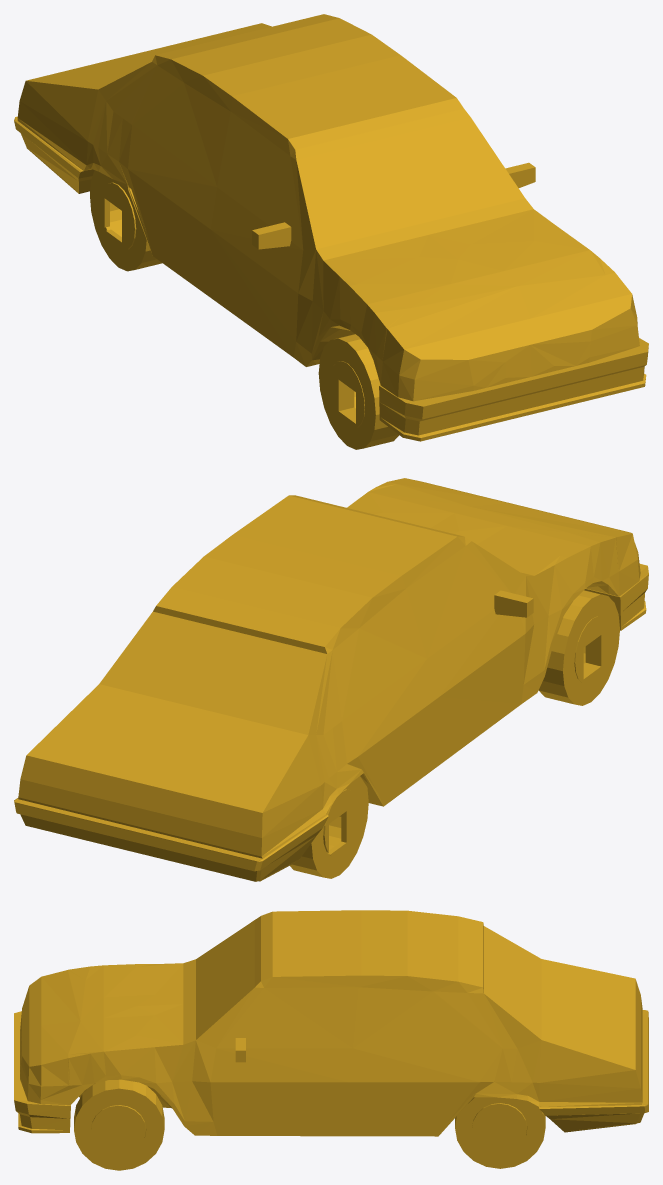
Rendered from CocheAmarillo.glb.
The picture shows the model from 3 angles, top to bottom: view 1: azimuth 30°, elevation 25°; view 2: azimuth 150°, elevation 25°; view 3: azimuth 270°, elevation 25°; orthographic projection. The views are drawn at different scales.
Parts seen in each view (by area): view 1: Mesh_Mesh_head_geo.001_lambert2SG.001; view 2: Mesh_Mesh_head_geo.001_lambert2SG.001; view 3: Mesh_Mesh_head_geo.001_lambert2SG.001.
Part boxes in pixels (left/top/right/bottom): Mesh_Mesh_head_geo.001_lambert2SG.001: left=14, top=14, right=648, bottom=449; Mesh_Mesh_head_geo.001_lambert2SG.001: left=14, top=478, right=648, bottom=881; Mesh_Mesh_head_geo.001_lambert2SG.001: left=14, top=910, right=648, bottom=1170.
Size of the model in its own units: 0.0405 by 0.032 by 0.1013.
